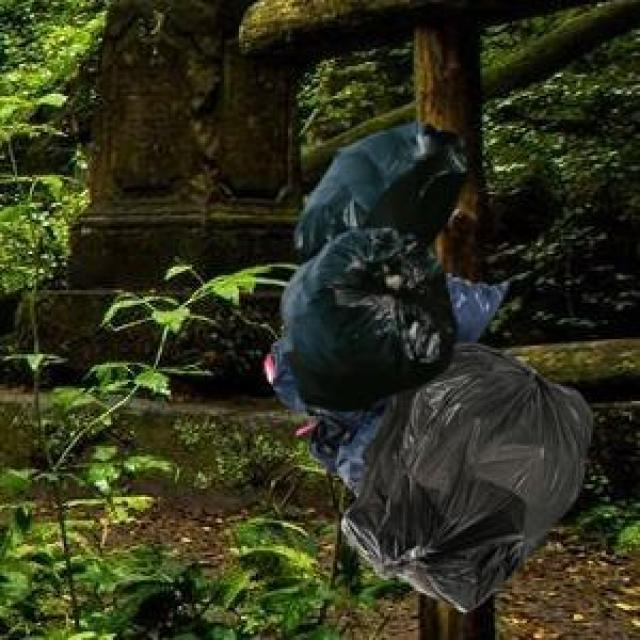waste: (271, 122, 592, 617)
